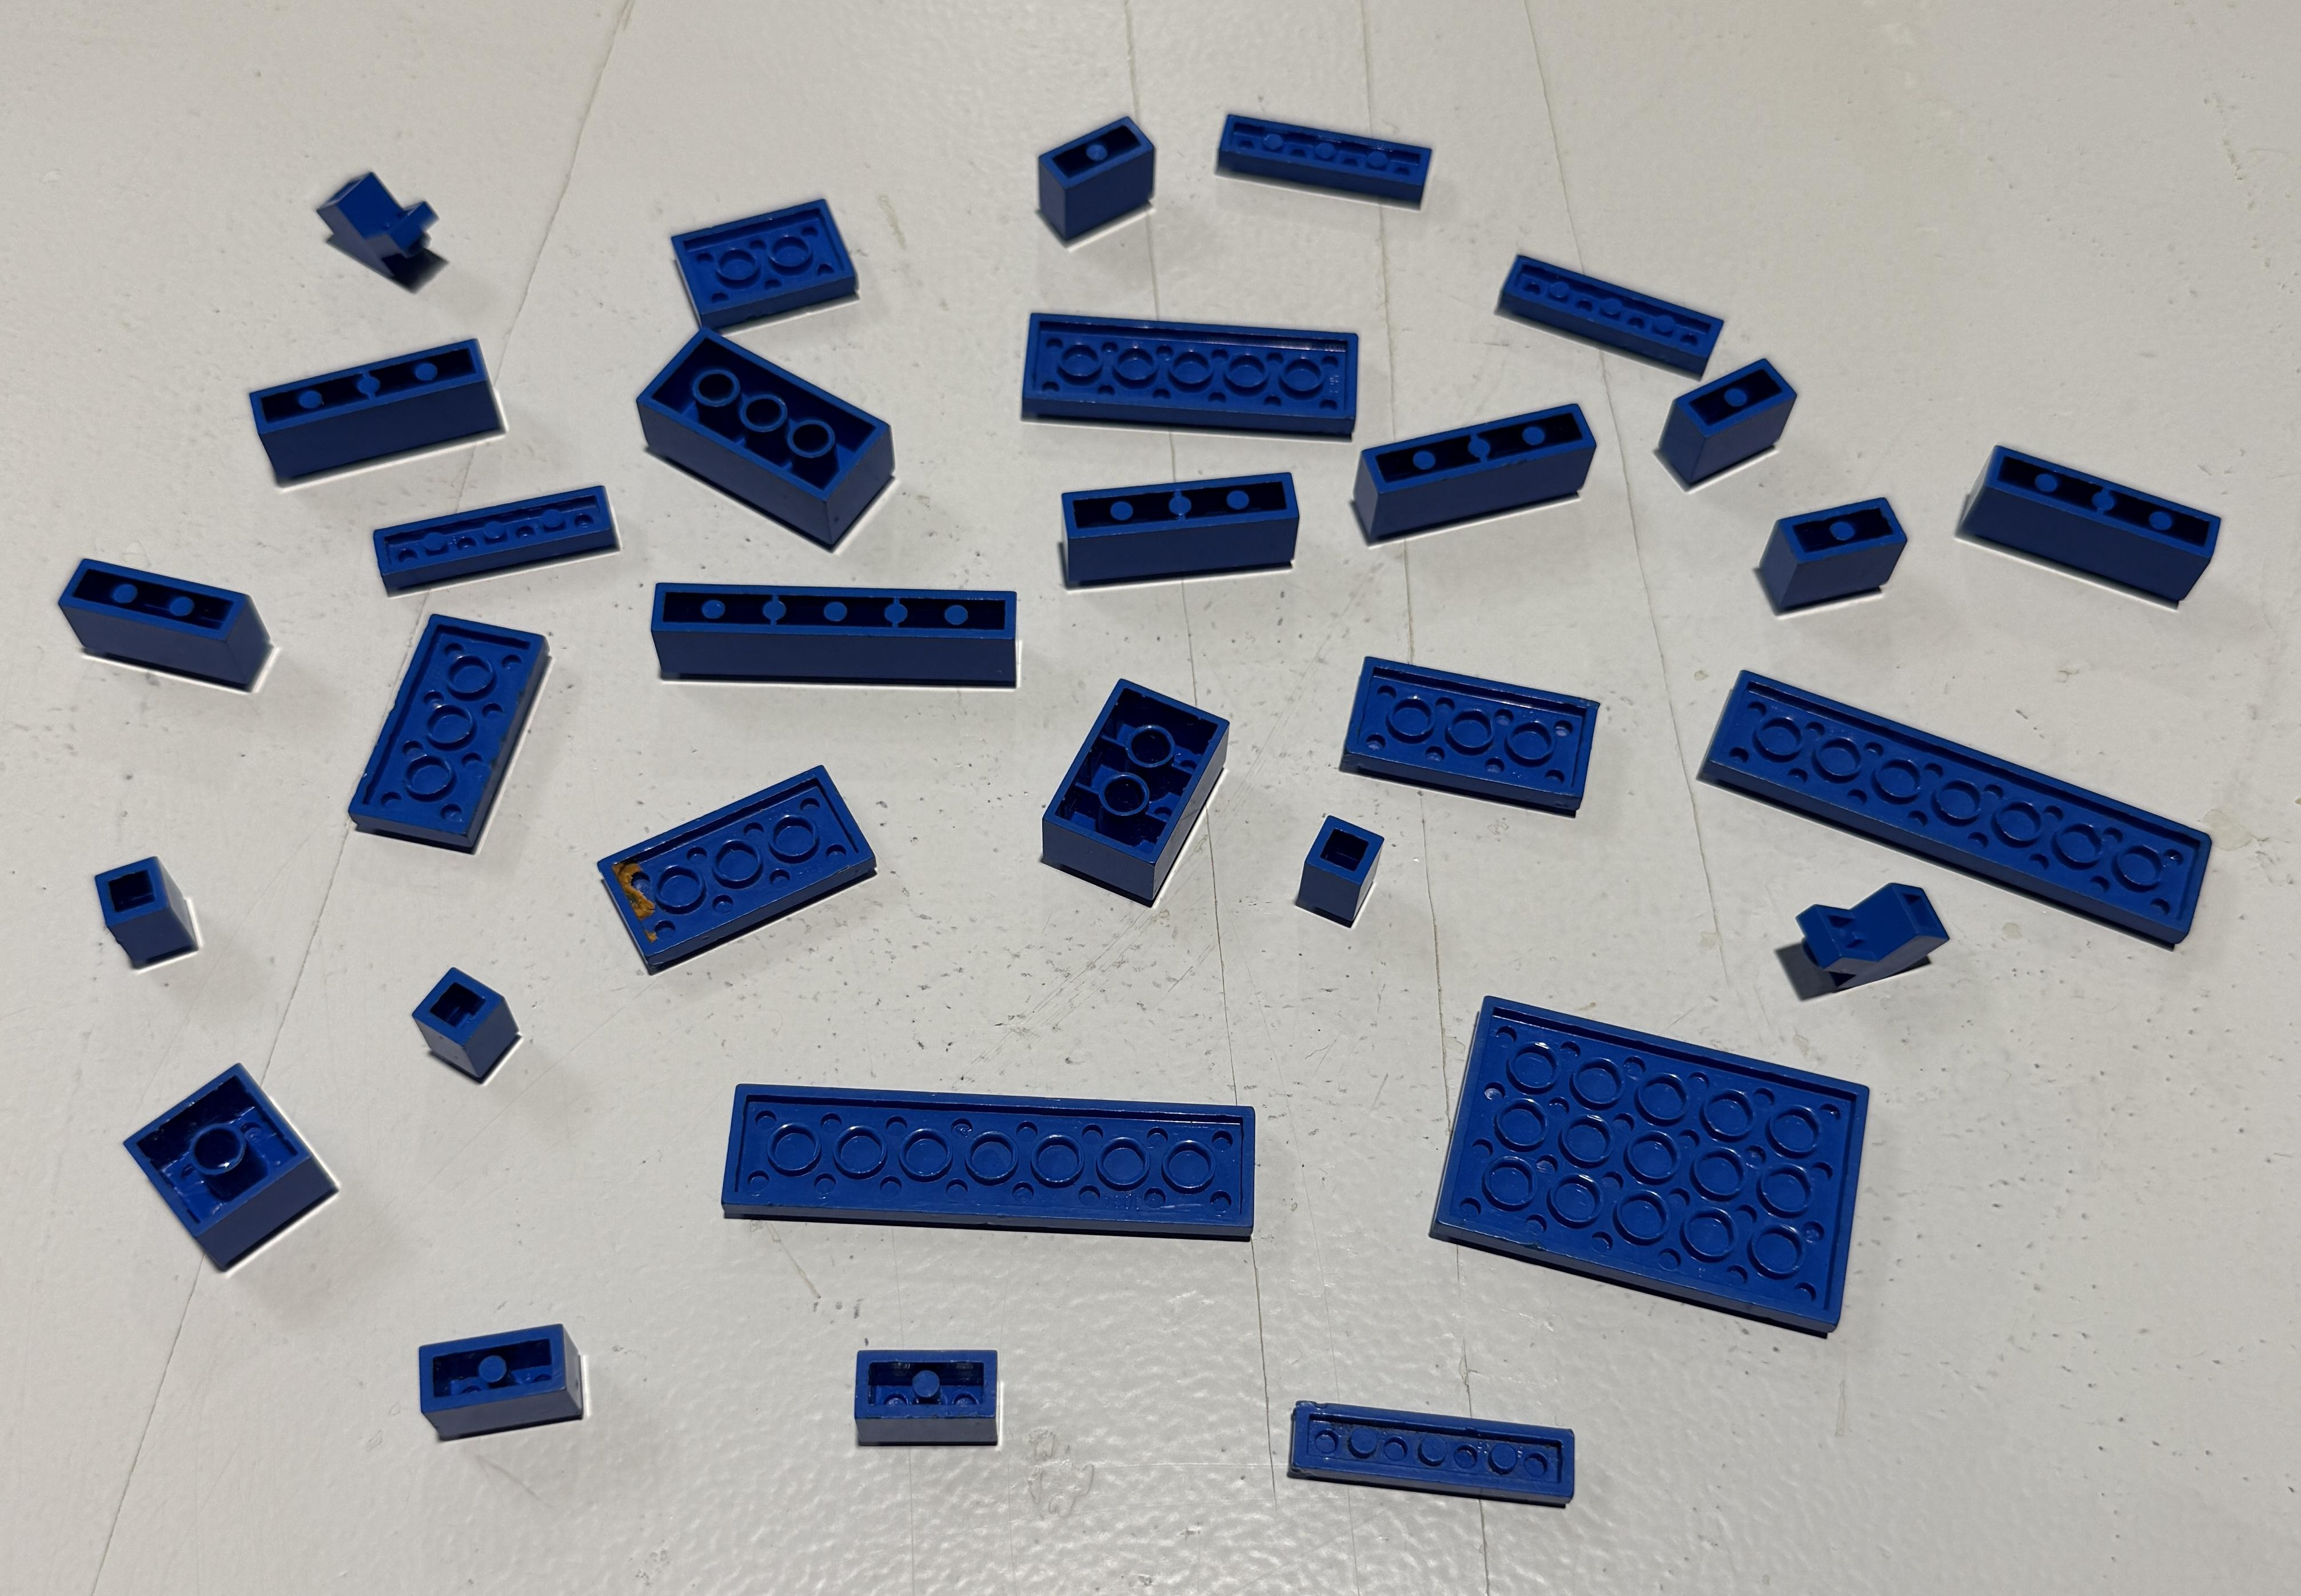brick_1x1: (75, 834, 233, 1002), (395, 947, 539, 1094), (1280, 795, 1411, 932)
brick_1x2: (787, 1311, 1046, 1475), (379, 1297, 635, 1453), (1740, 451, 1915, 636), (1635, 316, 1804, 503), (1002, 98, 1180, 269)
brick_1x3: (40, 535, 297, 703)
brick_1x4: (213, 309, 532, 517), (1951, 416, 2240, 642), (1339, 365, 1612, 568), (1040, 451, 1317, 619)
brick_2x2: (93, 1044, 376, 1299)
brick_2x3: (1032, 666, 1250, 919)
brick_2x4: (615, 309, 932, 556)
